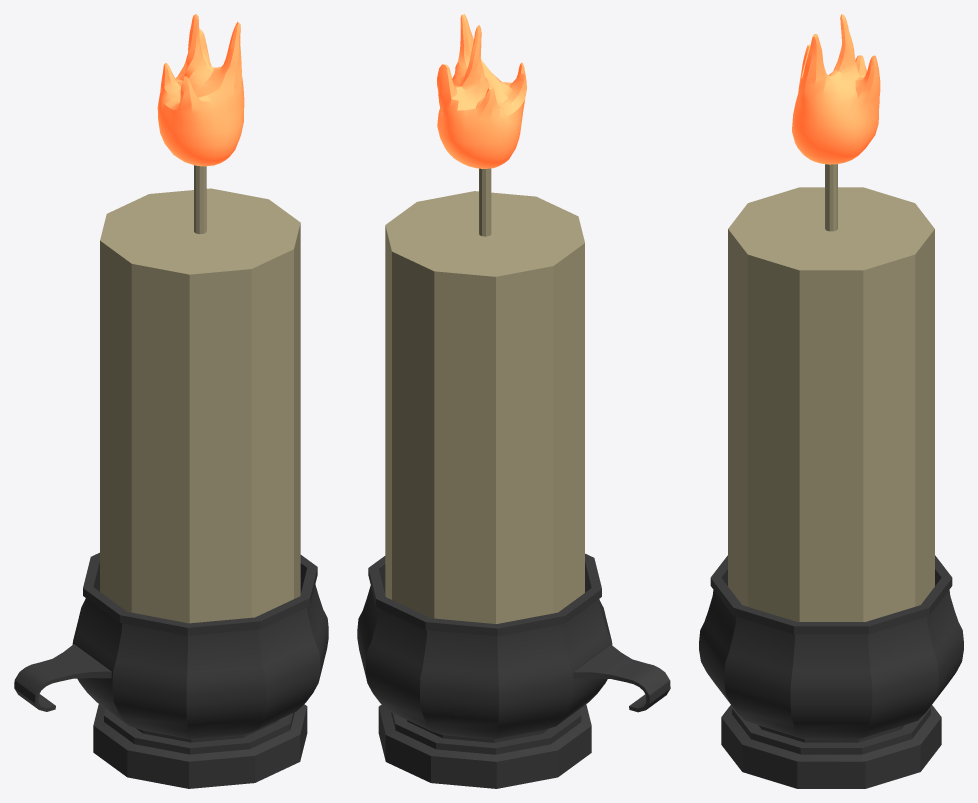
The model's file is Candle_2.fbx.
3 renders of one model, left to right at view 1: azimuth 30°, elevation 25°; view 2: azimuth 150°, elevation 25°; view 3: azimuth 270°, elevation 25°, orthographic.
Parts seen in each view (by area): view 1: Candle 5.001; view 2: Candle 5.001; view 3: Candle 5.001.
Part boxes in pixels (x1,y1,x2,y2): Candle 5.001: (14, 14, 328, 788); Candle 5.001: (357, 14, 670, 788); Candle 5.001: (699, 14, 963, 788).
Size of the model in its own units: 38.34 by 93.6 by 30.72.
